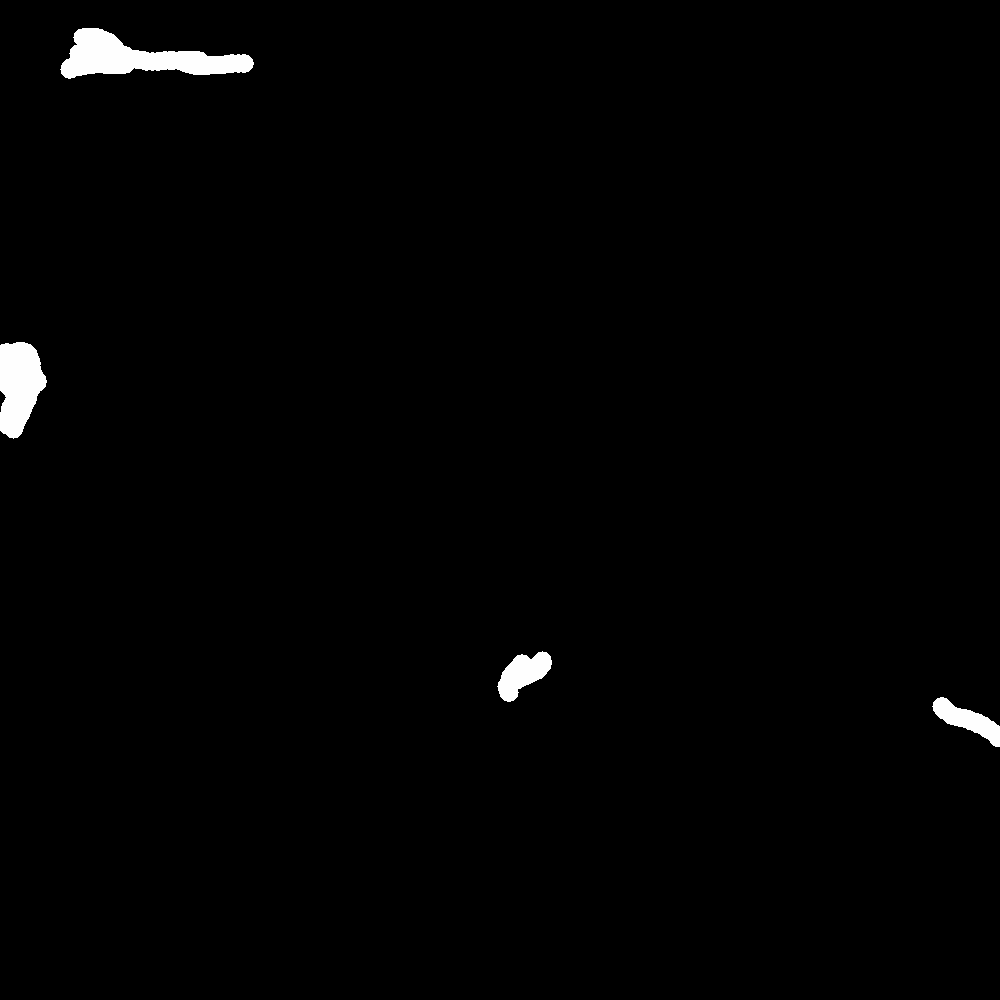illegal: (886, 639, 952, 716), (1, 345, 52, 397)
